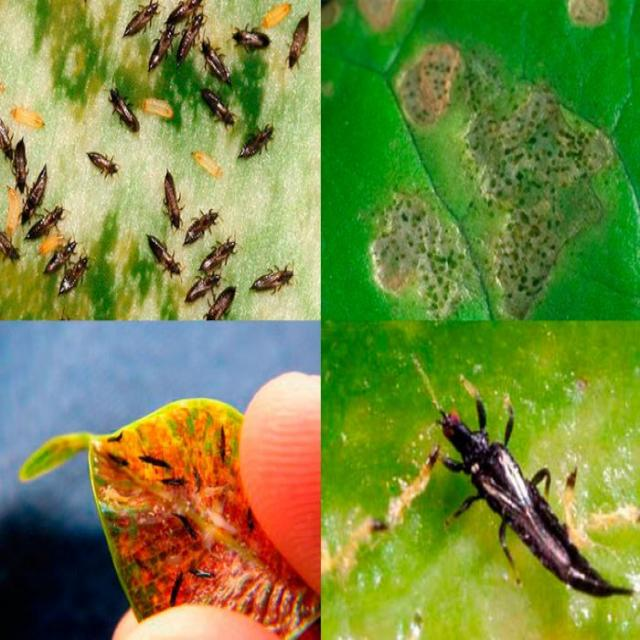Thrip-Adult-: (281, 7, 316, 73), (142, 230, 187, 280), (152, 164, 183, 234), (20, 159, 52, 225), (199, 34, 238, 88), (103, 85, 144, 136), (236, 120, 284, 163), (198, 85, 238, 136), (175, 9, 207, 70), (180, 202, 222, 248), (248, 260, 298, 298), (24, 200, 66, 244), (145, 21, 179, 74), (197, 234, 240, 274), (81, 141, 124, 180), (58, 252, 92, 297), (230, 24, 272, 56), (42, 240, 78, 276), (184, 270, 222, 304), (10, 132, 29, 194)
Thrip-Larva-: (1, 183, 26, 244), (4, 102, 53, 133), (190, 147, 227, 186), (259, 1, 295, 32), (34, 228, 70, 259), (142, 91, 174, 122)
